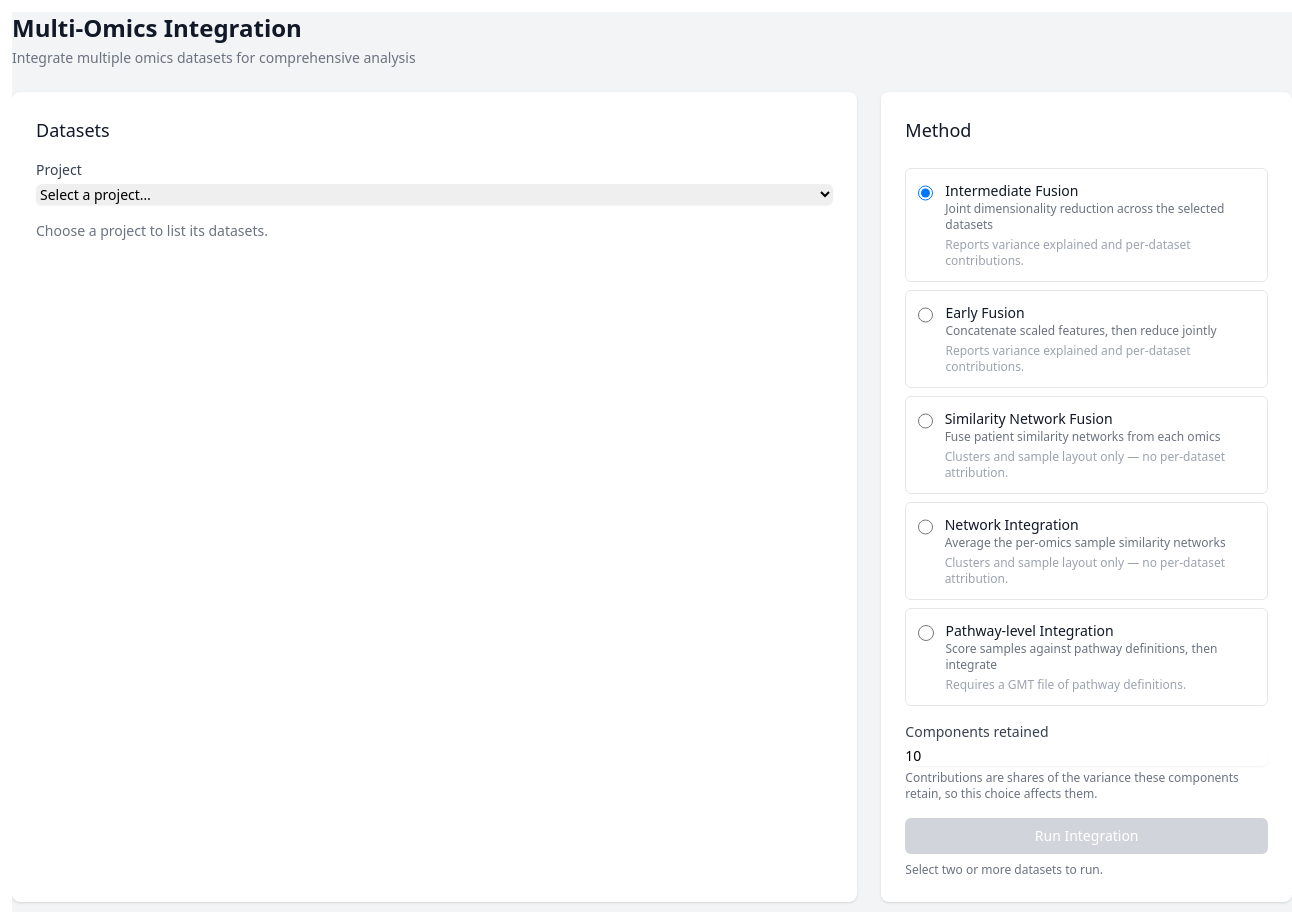
Integration page › surfaces an API failure instead of showing results
Select "Cohort A" in the dropdown labelled "Project": (435, 194) [36, 184, 833, 205]
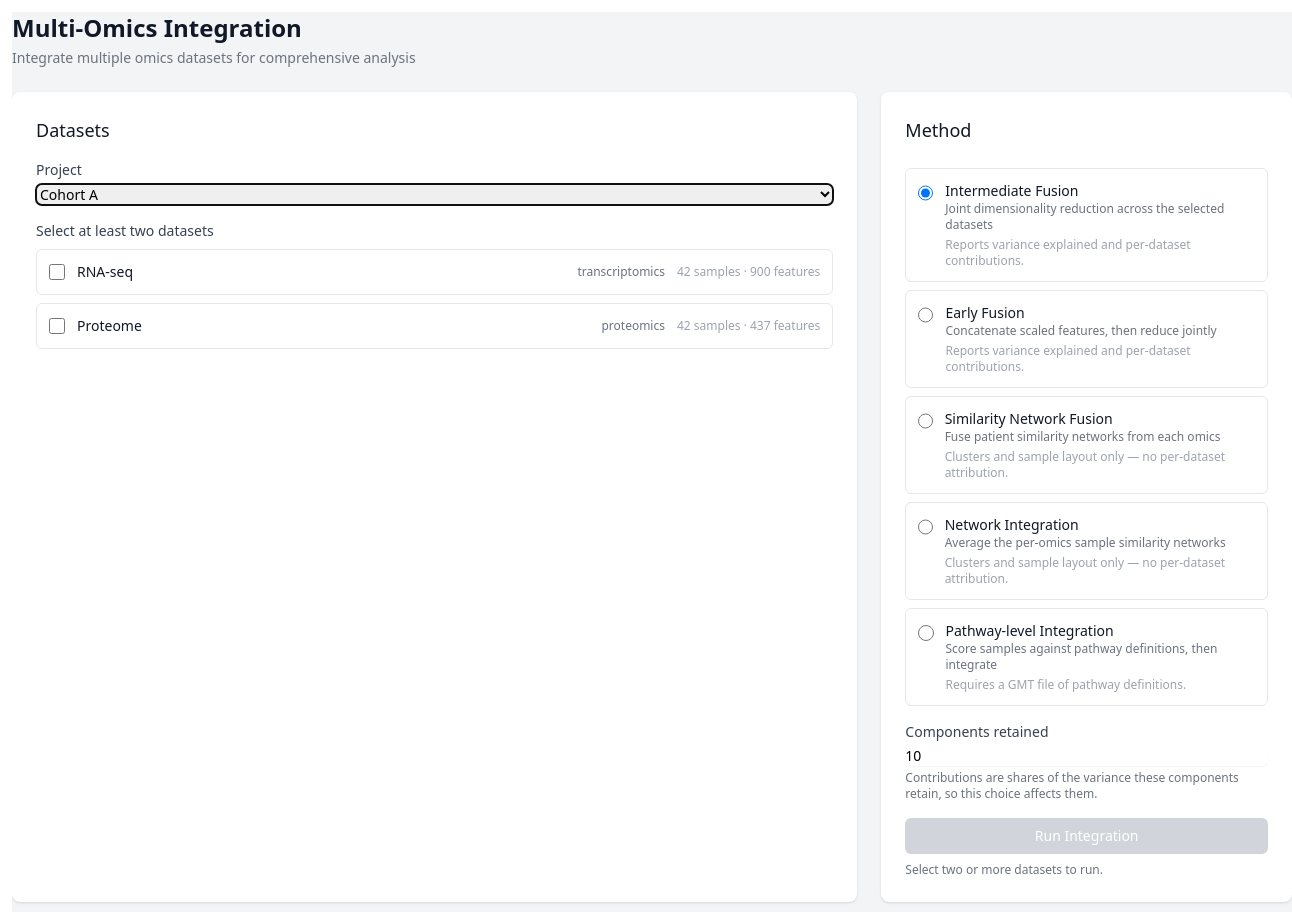
Click the checkbox labelled "RNA-seq transcriptomics 42 samples · 900 features": (57, 272) [49, 264, 65, 280]
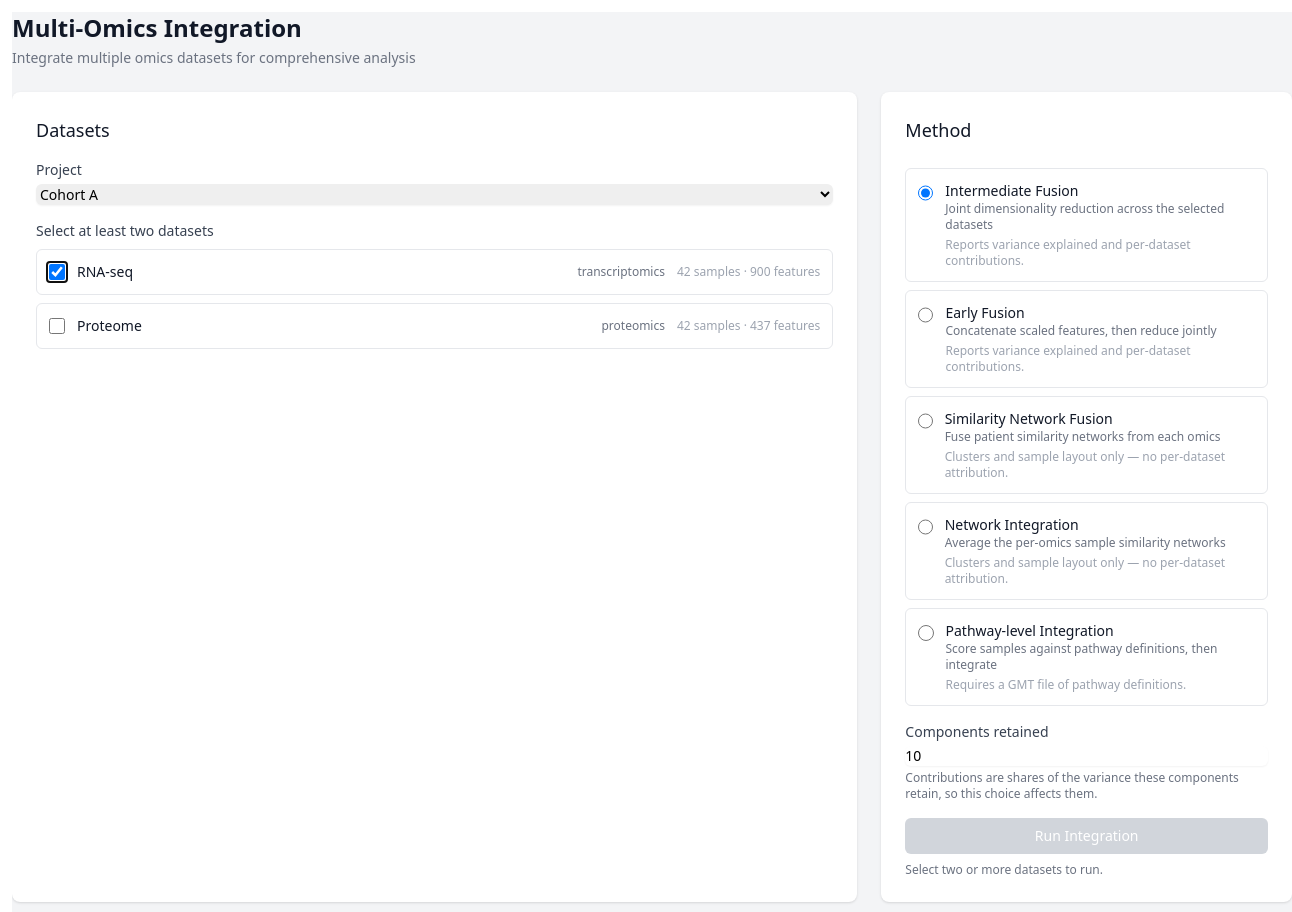
Click the checkbox labelled "Proteome proteomics 42 samples · 437 features": (57, 326) [49, 318, 65, 334]
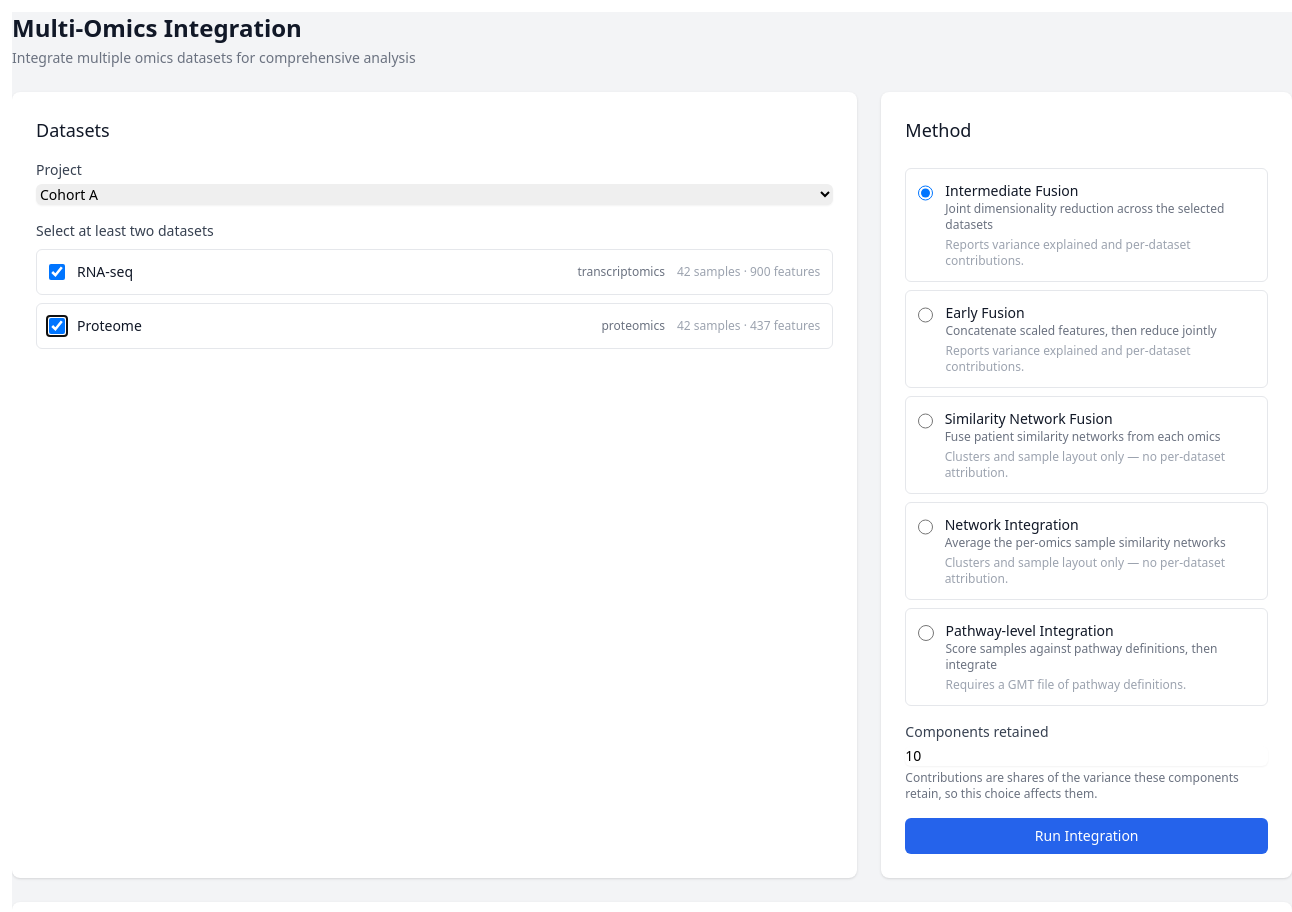
Click the button "Run Integration": (1087, 836) [905, 818, 1268, 854]
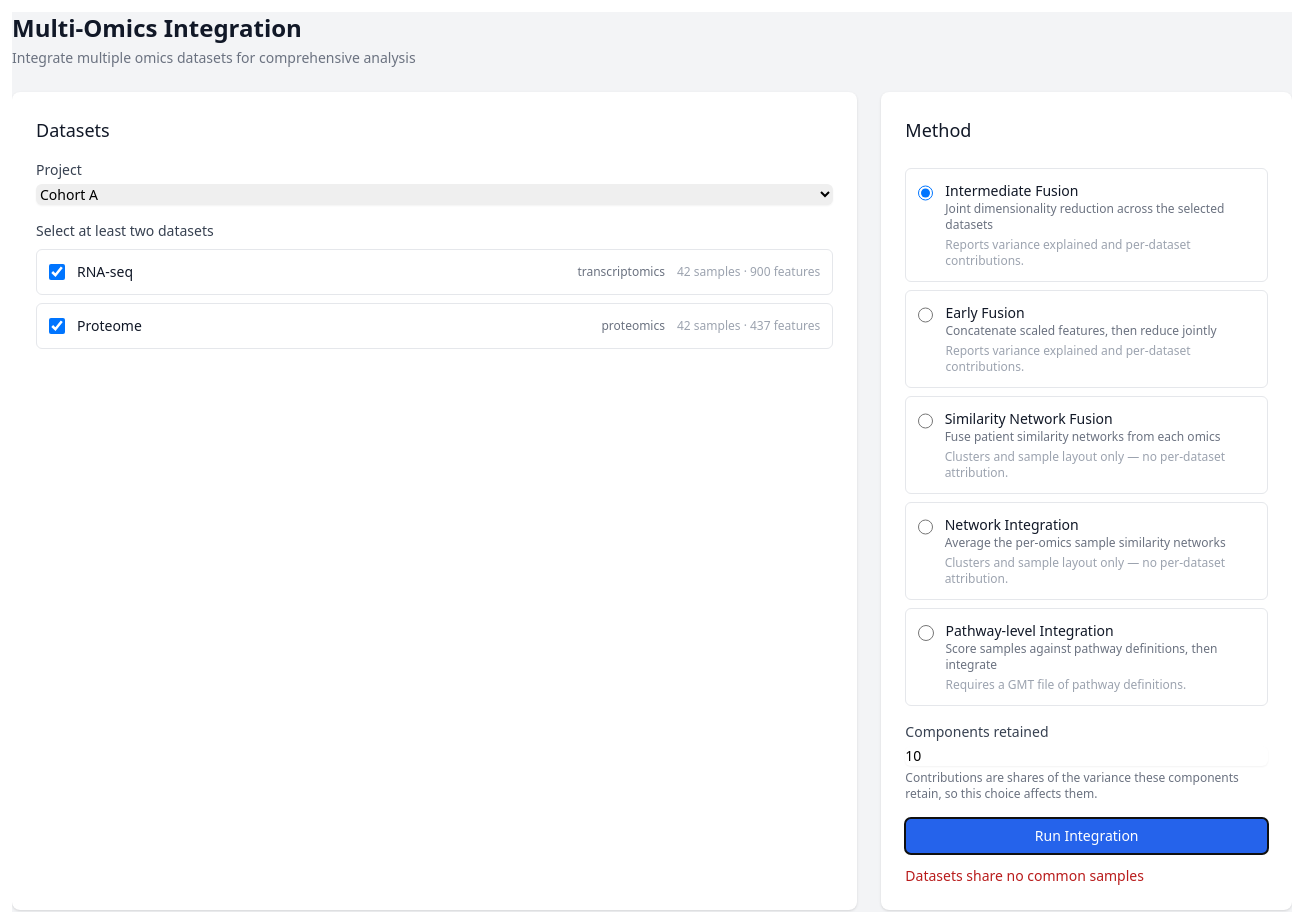
Result: the message reads "Datasets share no common samples" at [905, 866, 1144, 885]
